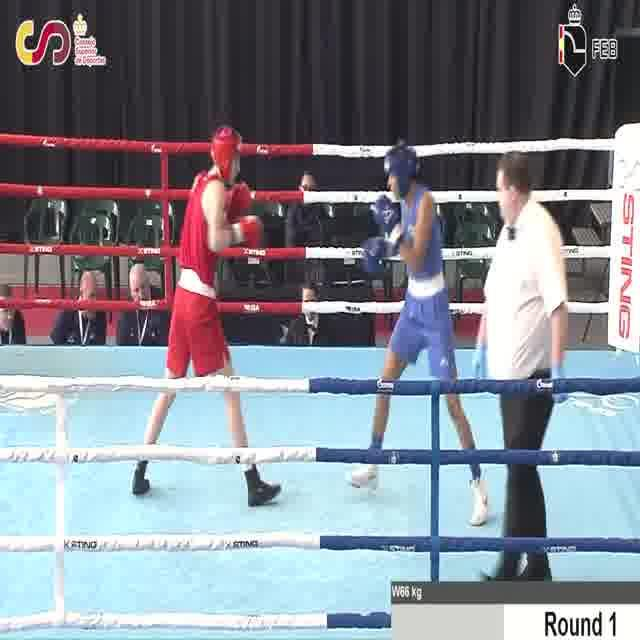blue-player: (345, 139, 493, 527)
red-player: (127, 121, 283, 509)
referee: (470, 147, 570, 587)
